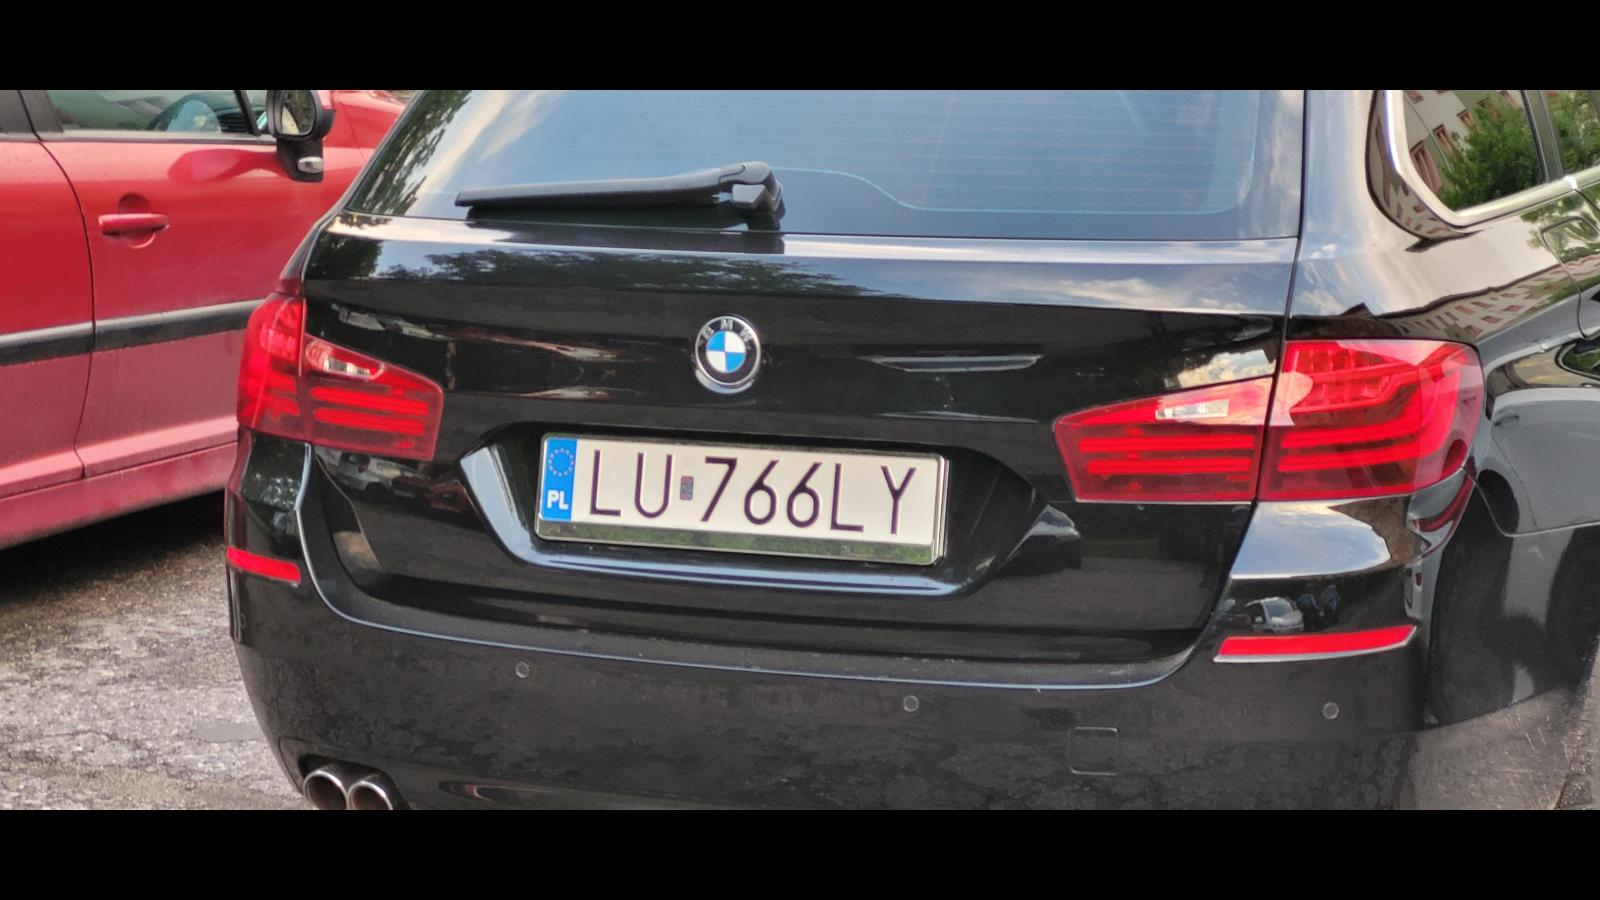plates: (535, 433, 945, 565)
